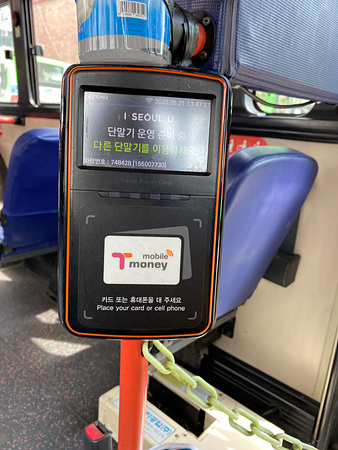terminal: (58, 61, 231, 339)
